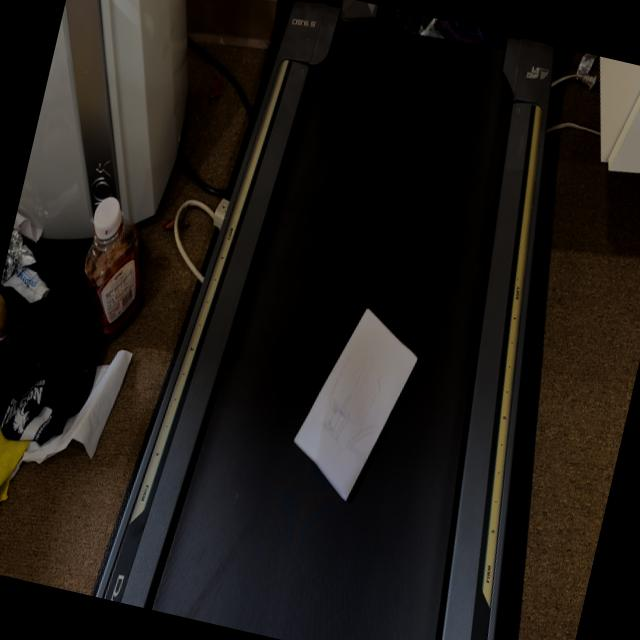Recycle: (280, 296, 428, 514)
